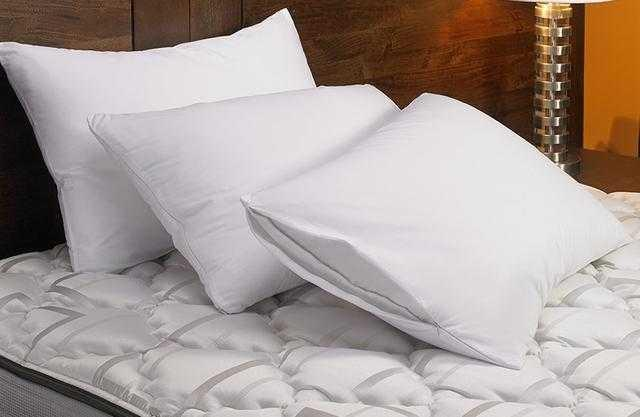pillow: (238, 90, 634, 370), (0, 6, 316, 274), (85, 82, 401, 314)
